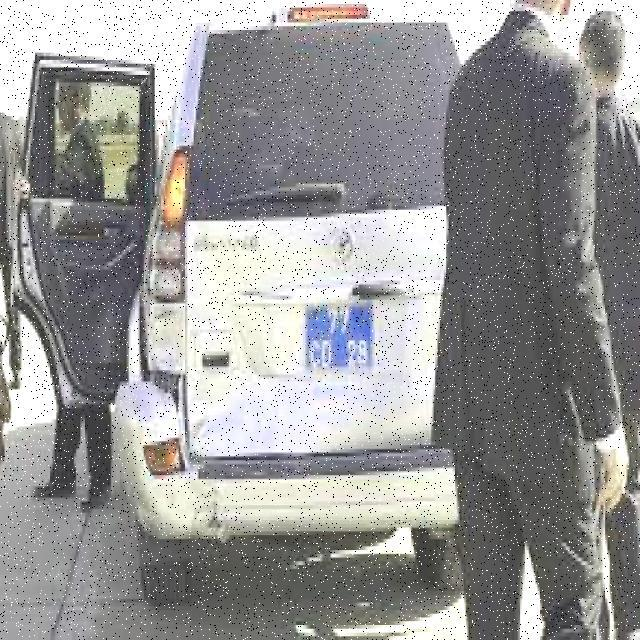car damage: (116, 298, 248, 550)
